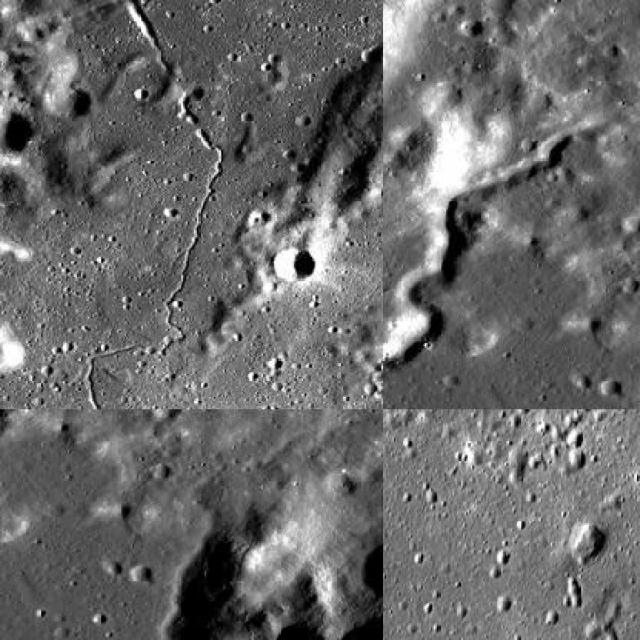rille: (83, 0, 259, 408), (383, 125, 580, 408), (383, 451, 625, 638), (238, 94, 382, 408), (0, 410, 111, 638)
